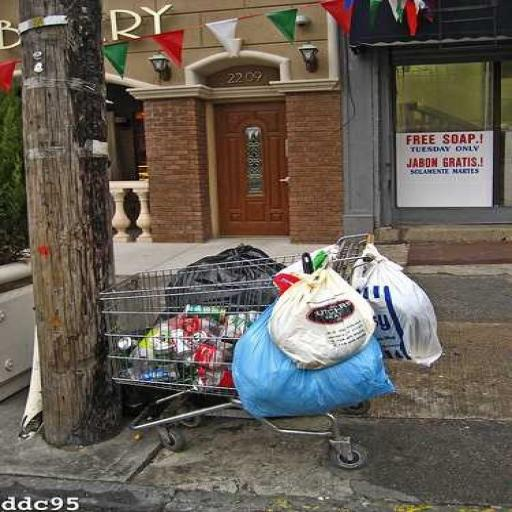shopping_cart: (99, 232, 380, 470)
